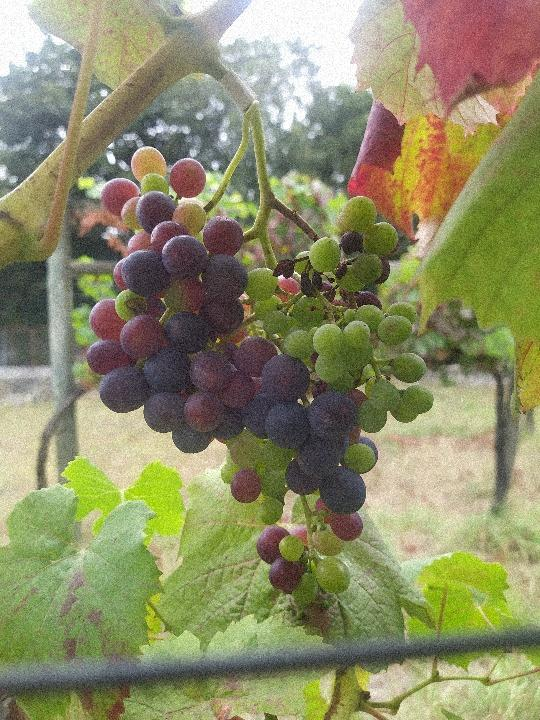grape: (82, 142, 436, 609)
